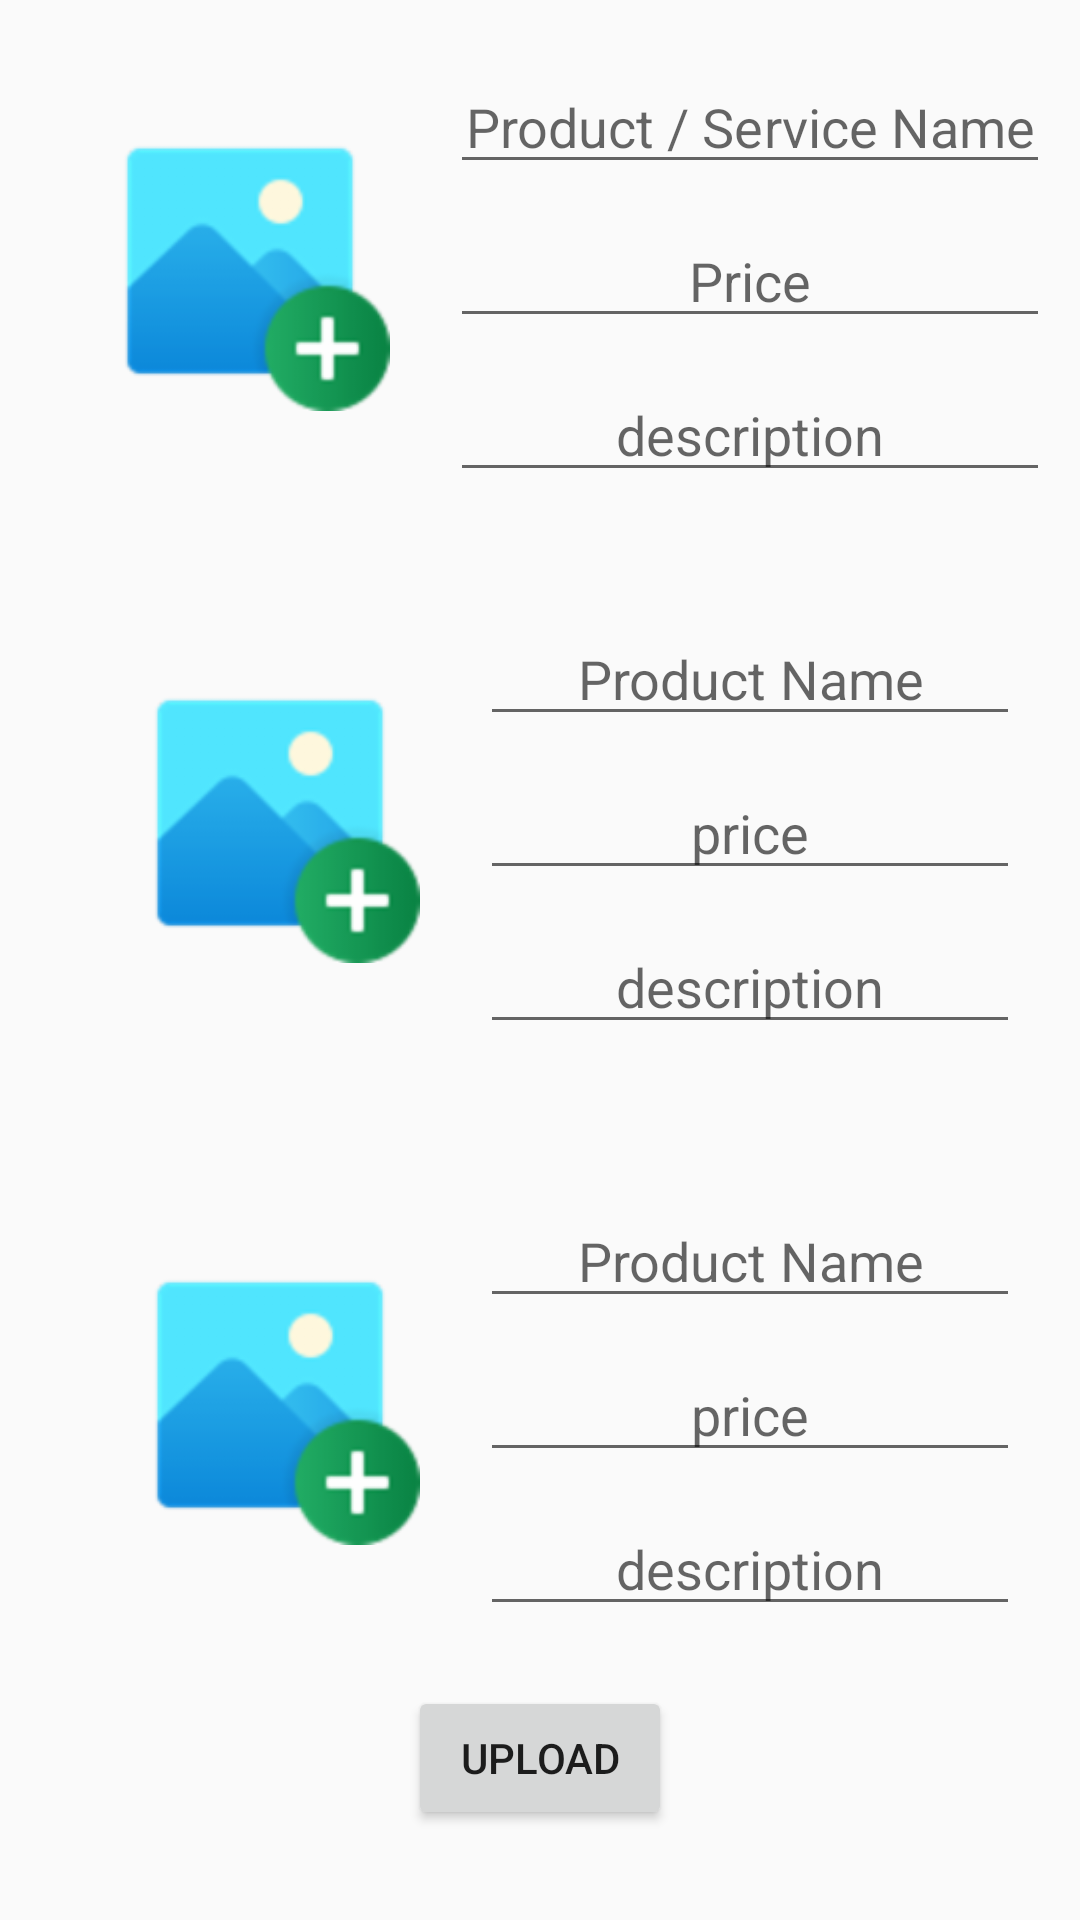

Icon bounding boxes for this 1080px x 1920px phone screenshot, format (x1, y1, x2, y2):
nophoto: (126, 147, 390, 411), (156, 699, 420, 963), (156, 1281, 420, 1545)
